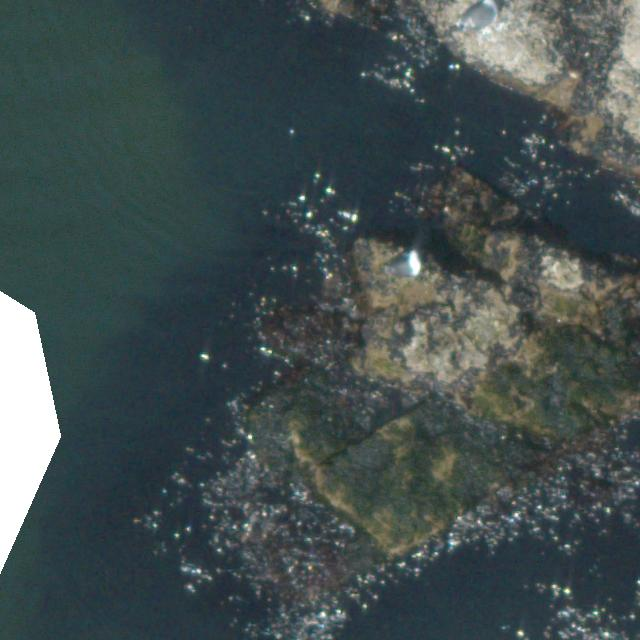umineko: (456, 3, 501, 30), (384, 250, 423, 277)
